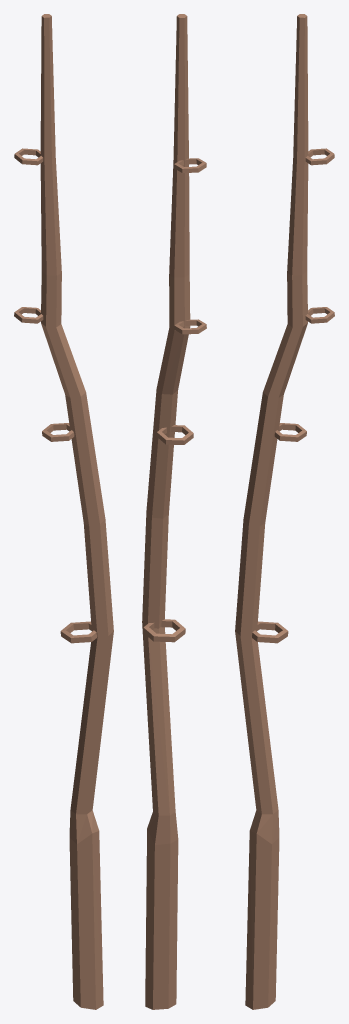
Rendered from FishingRod_Lvl1.glb.
3 views of the same model, side by side, from view 1: azimuth 90°, elevation 25°; view 2: azimuth 210°, elevation 25°; view 3: azimuth 270°, elevation 25° (orthographic).
Parts seen in each view (by area): view 1: FishingRod_Lvl1; view 2: FishingRod_Lvl1; view 3: FishingRod_Lvl1.
Part boxes in pixels (box(x1,y1,x2,y2)): FishingRod_Lvl1: box(14, 14, 113, 1009); FishingRod_Lvl1: box(142, 14, 206, 1009); FishingRod_Lvl1: box(235, 14, 334, 1009).
Bounding box in the file's own units: 0.0694 × 2.1 × 0.1921.
